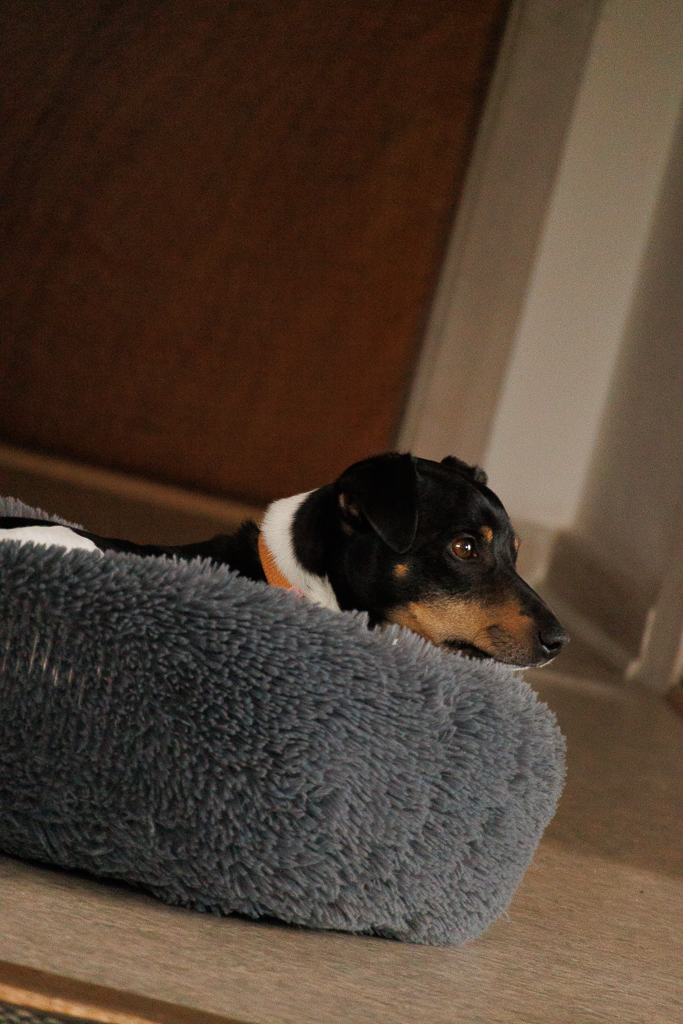Dog: (0, 440, 578, 694)
